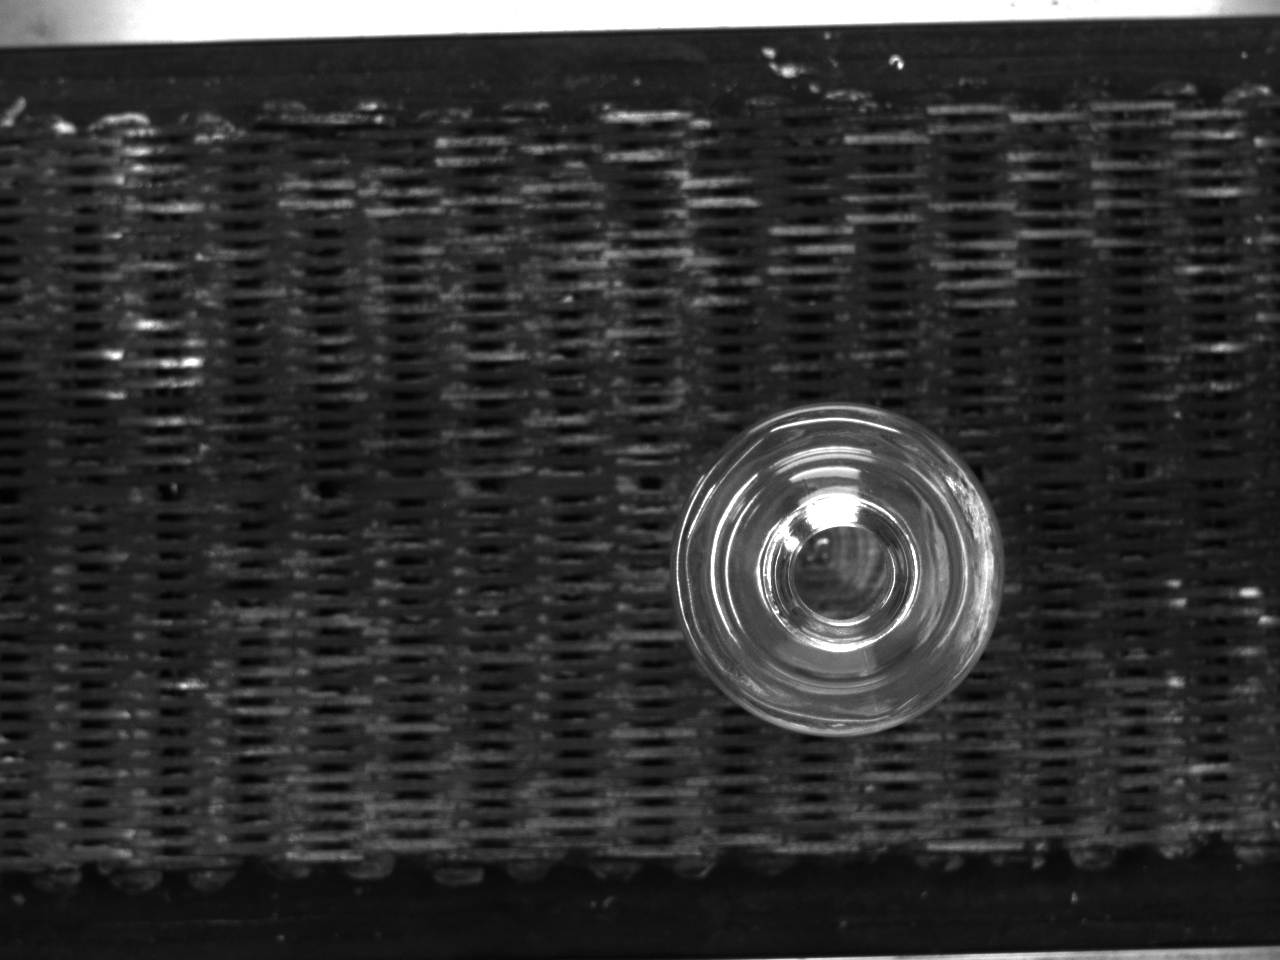bottleneck: (764, 493, 920, 654)
